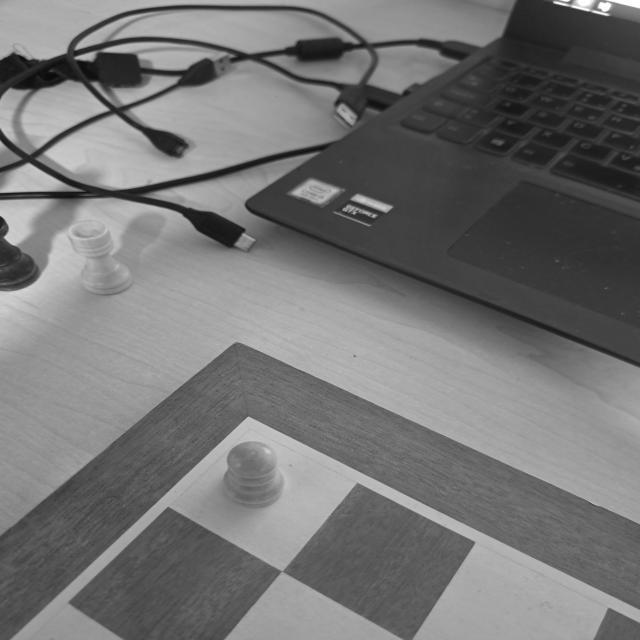chess-table-corners: (203, 402, 298, 460)
